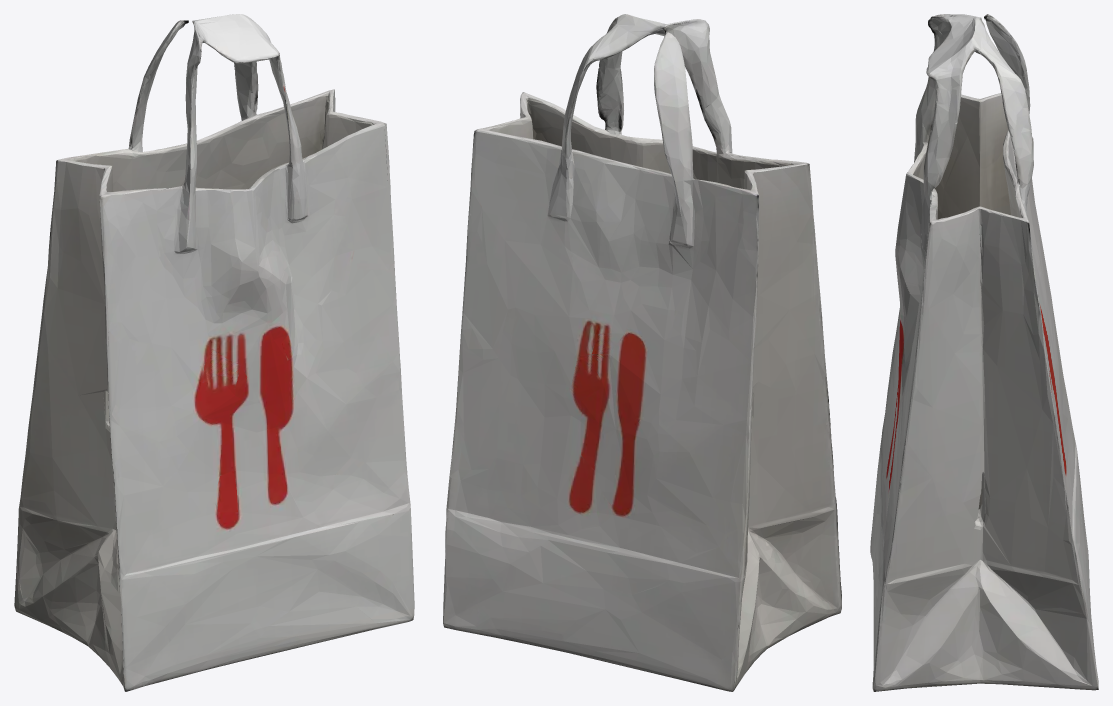
The model's file is bag_takeout_white_cutlery.glb.
The picture shows the model from 3 angles, left to right: view 1: azimuth 30°, elevation 25°; view 2: azimuth 150°, elevation 25°; view 3: azimuth 270°, elevation 25°; orthographic projection.
Visible parts, largest first — view 1: geometry_0; view 2: geometry_0; view 3: geometry_0.
Boxes of the visible parts, left/top/right/bottom form: geometry_0: left=14, top=14, right=414, bottom=691; geometry_0: left=443, top=14, right=841, bottom=691; geometry_0: left=870, top=14, right=1098, bottom=691.
Bounding box in the file's own units: 0.5146 × 0.9998 × 0.3474.
1 material, 1 textured.
